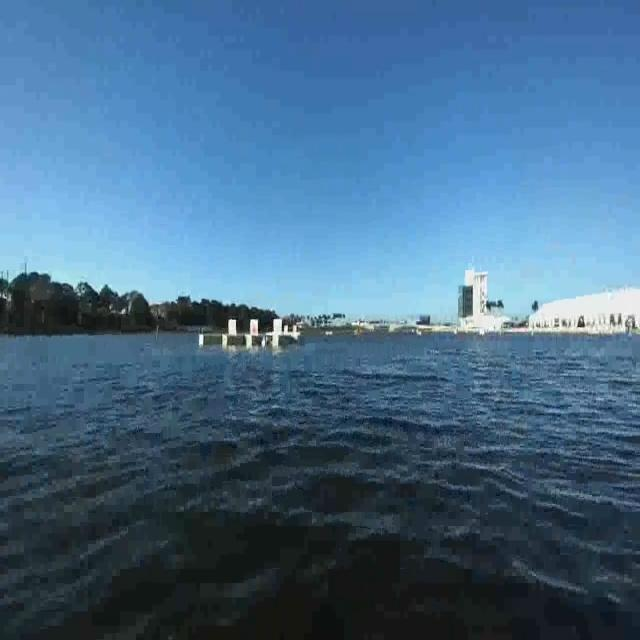red-dot: (252, 319, 258, 338)
